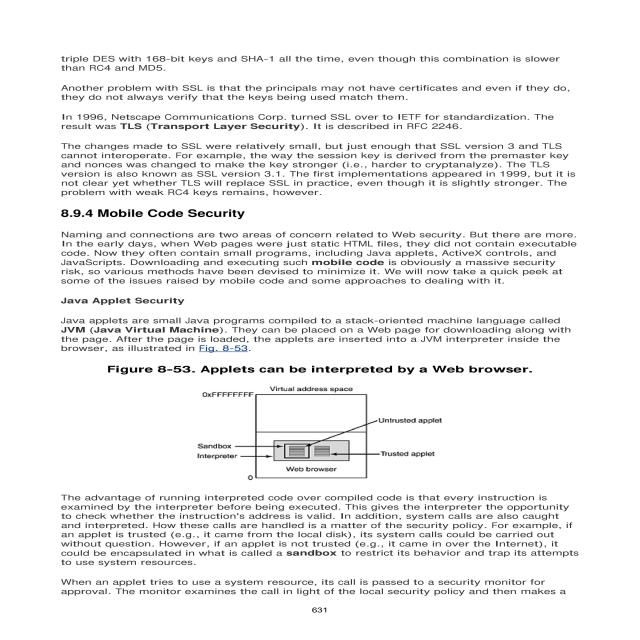diagram: (111, 364, 557, 479)
